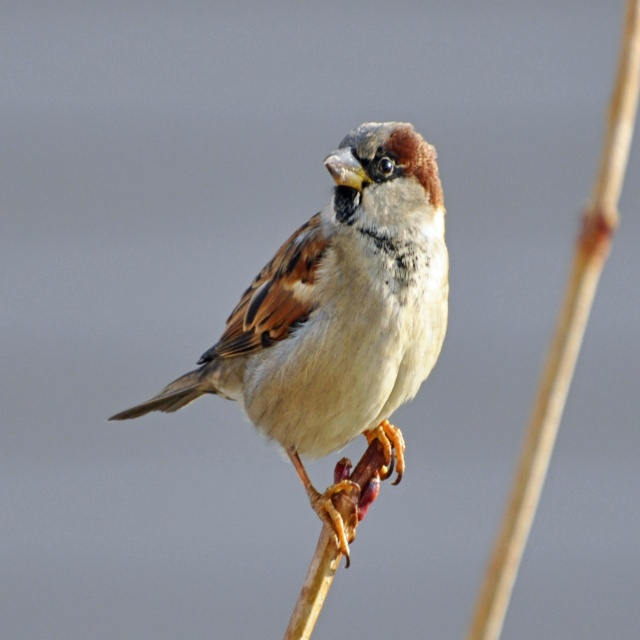Sparrow: (108, 121, 449, 568)
